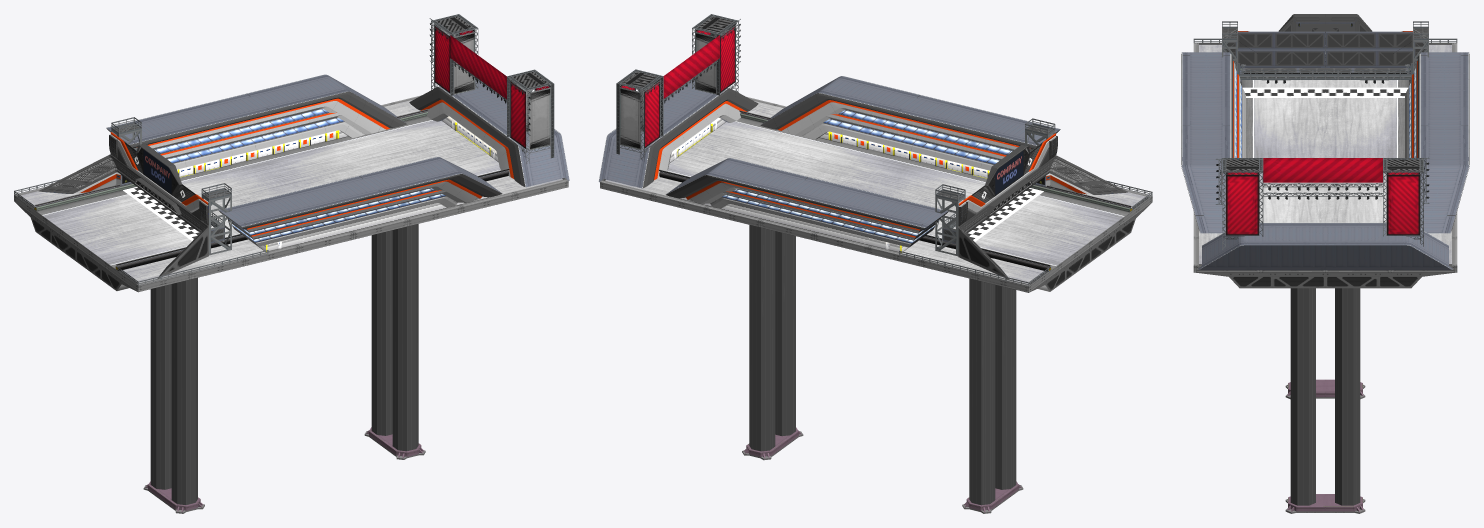
The model's file is Finish Platform.fbx.
3 views of the same model, side by side, from view 1: azimuth 30°, elevation 25°; view 2: azimuth 150°, elevation 25°; view 3: azimuth 270°, elevation 25° (orthographic). The views are drawn at different scales.
Visible parts, largest first — view 1: gat_sta_finish2, standard_road3, support_pylon_1, support_pylon, gat_sta_start, standard_bridge_new, wall_straight_elevated, railing2; view 2: gat_sta_finish2, standard_road3, support_pylon, support_pylon_1, gat_sta_start, standard_bridge_new, wall_straight_elevated, railing2; view 3: gat_sta_finish2, standard_road3, support_pylon_1, gat_sta_start, standard_bridge_new, support_ground_1, support_ground.
Part boxes in pixels (bbox=[...]): gat_sta_finish2: bbox=[38, 14, 554, 278]; standard_road3: bbox=[17, 99, 565, 283]; support_pylon_1: bbox=[371, 224, 418, 451]; support_pylon: bbox=[150, 277, 197, 504]; gat_sta_start: bbox=[177, 79, 569, 187]; standard_bridge_new: bbox=[14, 95, 568, 292]; wall_straight_elevated: bbox=[34, 109, 509, 270]; railing2: bbox=[14, 179, 268, 285]; gat_sta_finish2: bbox=[616, 14, 1127, 279]; standard_road3: bbox=[602, 101, 1149, 284]; support_pylon: bbox=[969, 278, 1016, 505]; support_pylon_1: bbox=[749, 225, 795, 451]; gat_sta_start: bbox=[598, 79, 908, 252]; standard_bridge_new: bbox=[600, 96, 1152, 292]; wall_straight_elevated: bbox=[659, 110, 1132, 271]; railing2: bbox=[899, 180, 1152, 286]; gat_sta_finish2: bbox=[1181, 14, 1469, 249]; standard_road3: bbox=[1199, 43, 1451, 265]; support_pylon_1: bbox=[1290, 288, 1360, 505]; gat_sta_start: bbox=[1198, 222, 1452, 270]; standard_bridge_new: bbox=[1193, 43, 1457, 288]; support_ground_1: bbox=[1285, 494, 1365, 513]; support_ground: bbox=[1285, 379, 1365, 399].
Size of the model in its own units: 13260 by 10513 by 7017.
